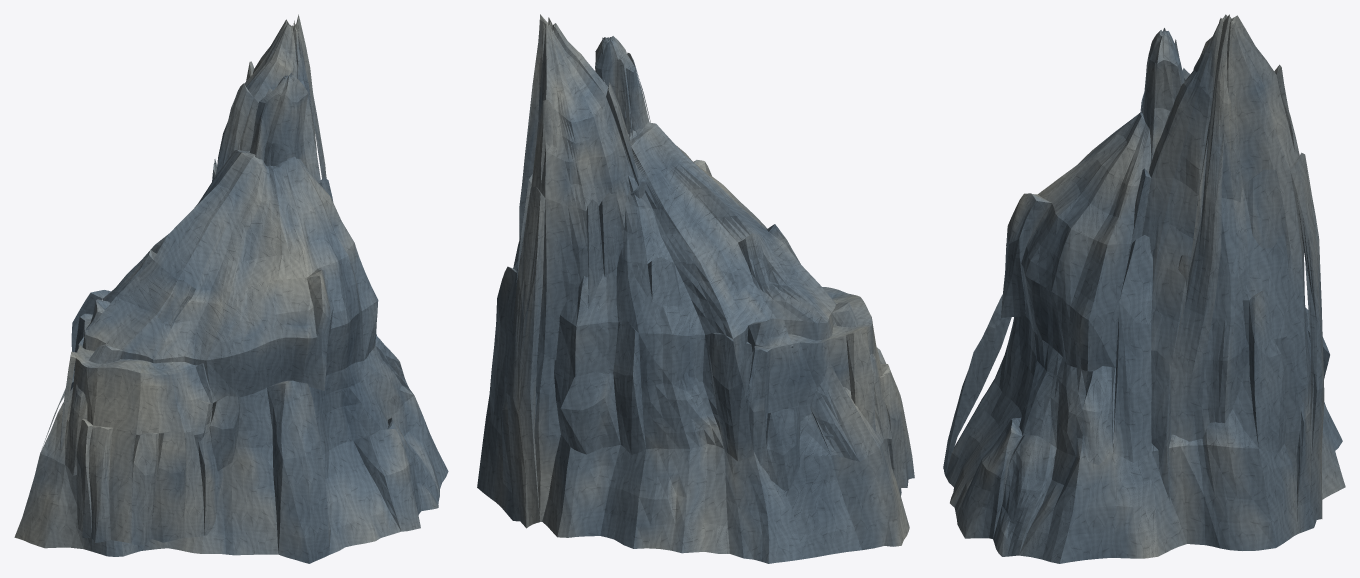
3 views of the same model, side by side, from view 1: azimuth 30°, elevation 25°; view 2: azimuth 150°, elevation 25°; view 3: azimuth 270°, elevation 25° (orthographic). The views are drawn at different scales.
Parts seen in each view (by area): view 1: F08_stone; view 2: F08_stone; view 3: F08_stone.
Boxes of the visible parts, x1,y1,x2,y2 form: F08_stone: (14, 14, 448, 563); F08_stone: (477, 14, 914, 563); F08_stone: (943, 14, 1345, 563).
Bounding box in the file's own units: 21.34 × 23.09 × 16.18.
1 material, 1 textured.
